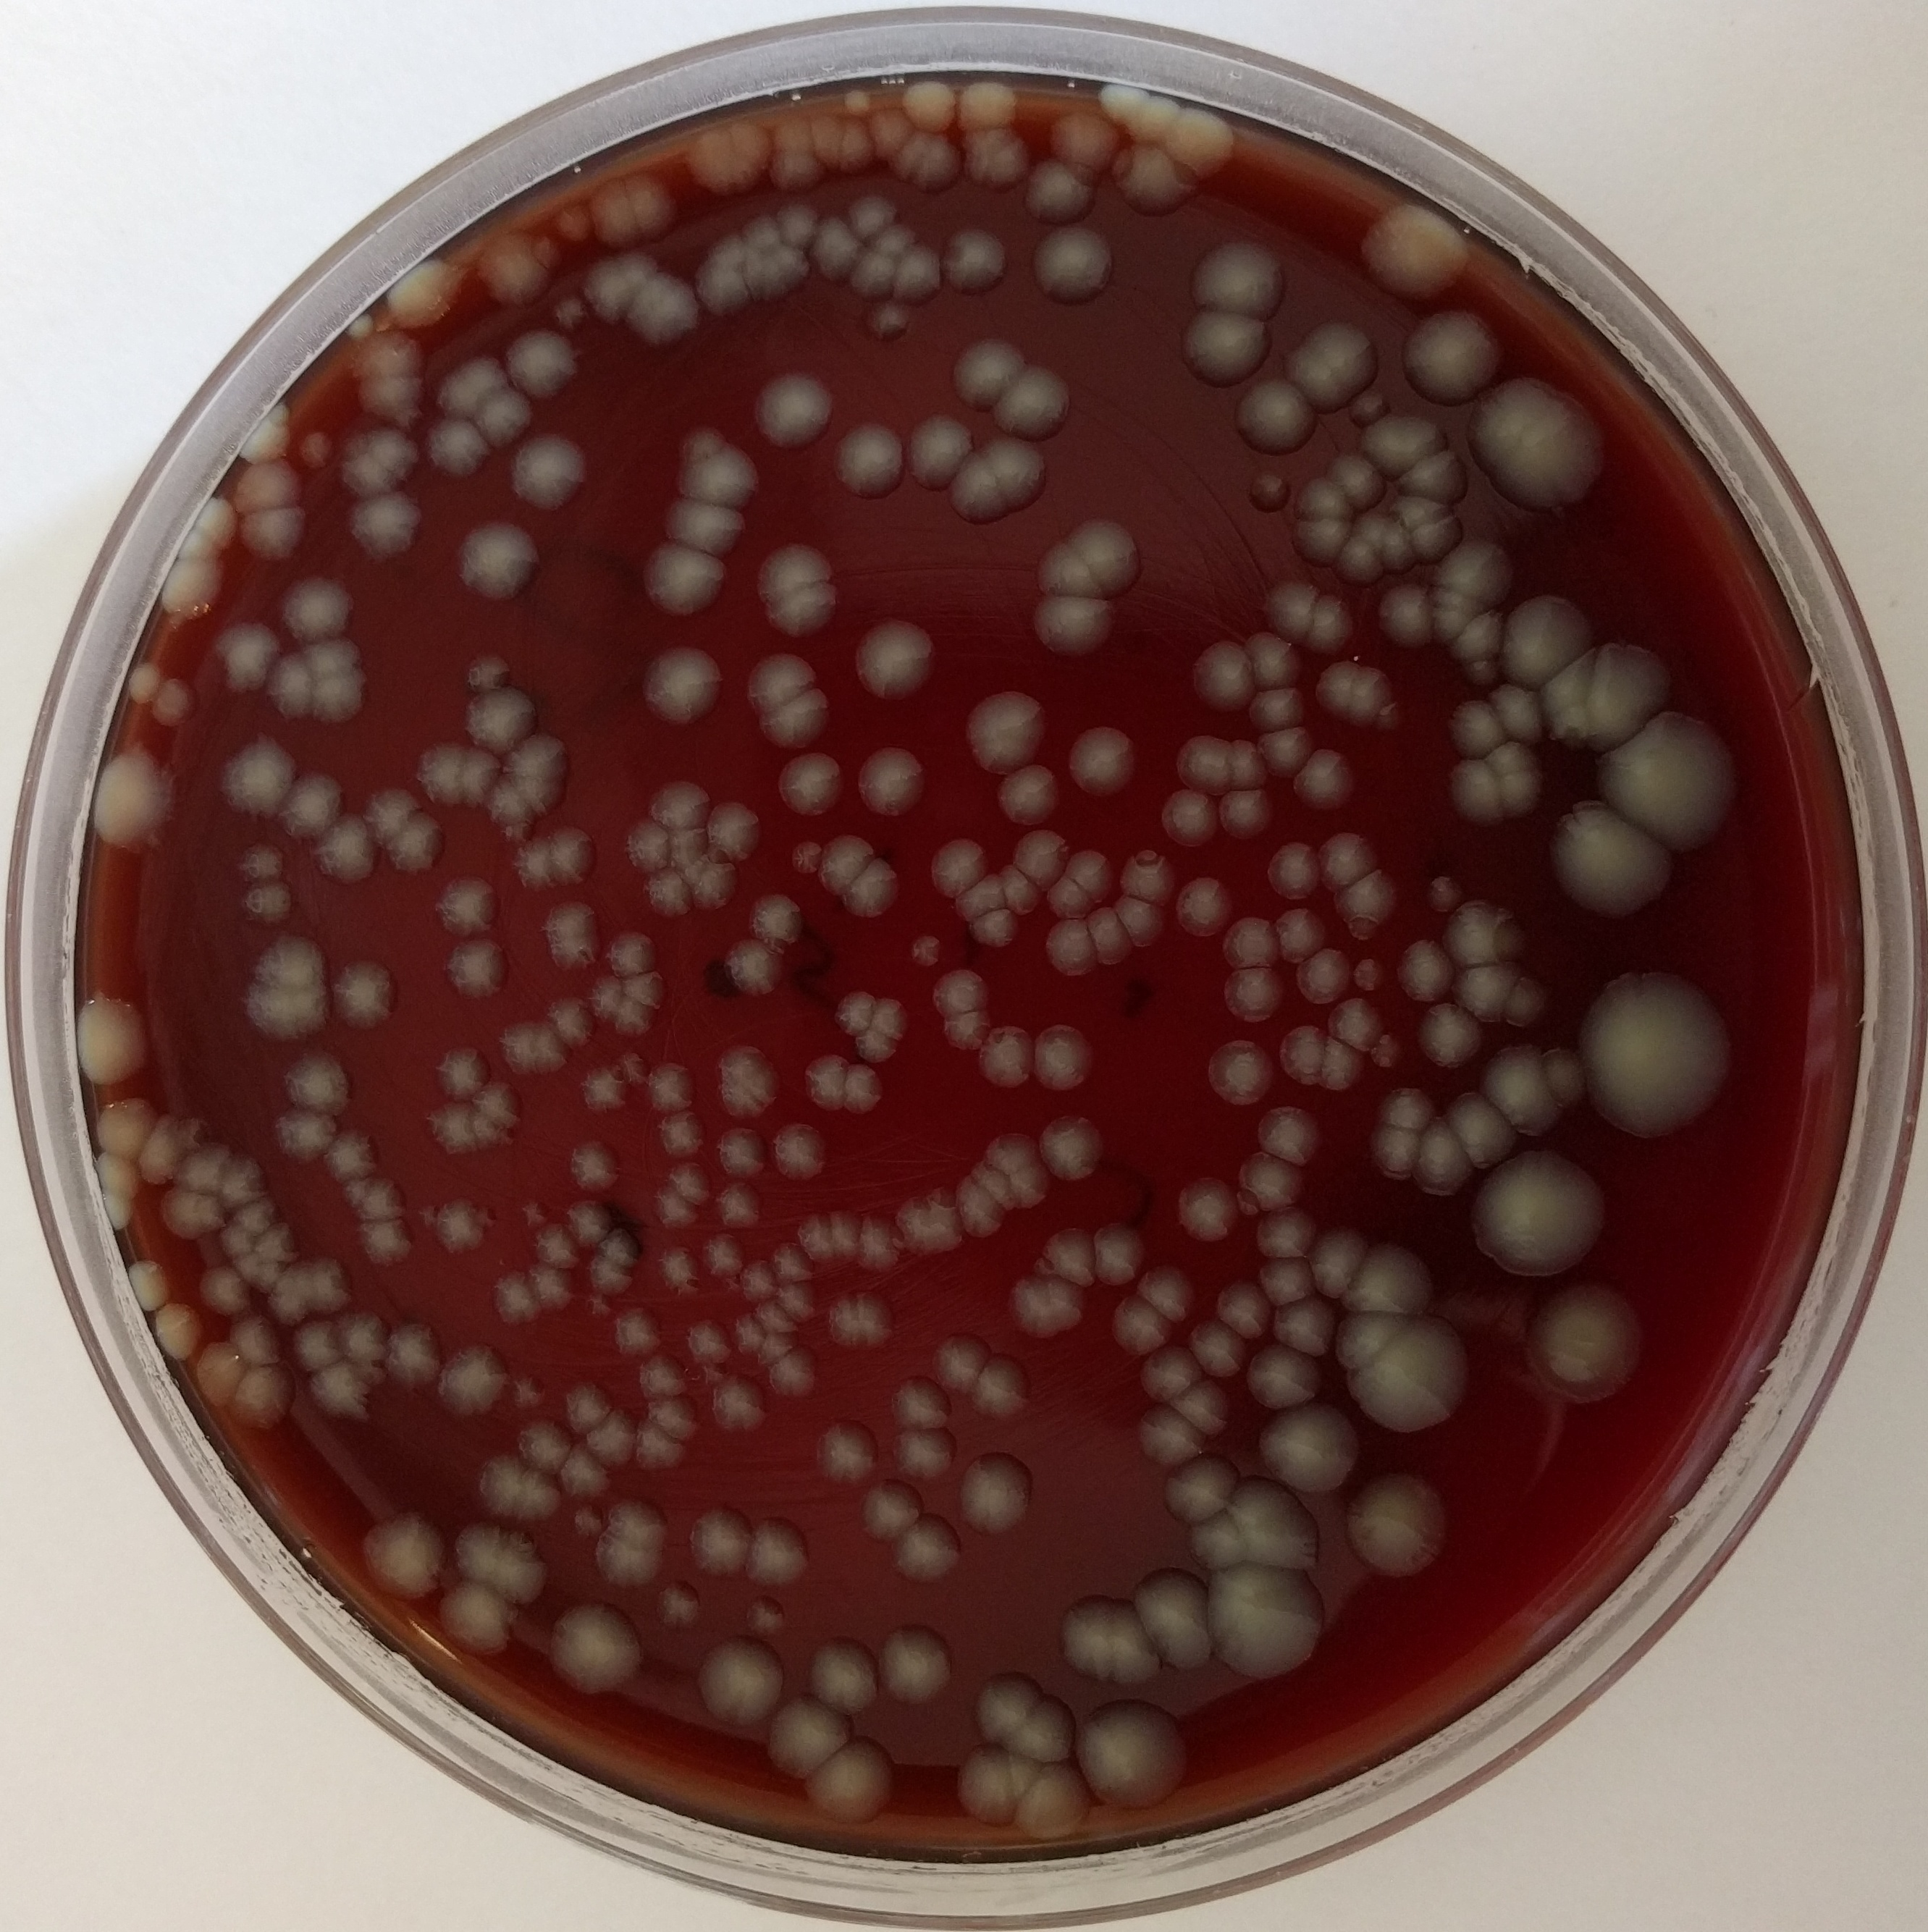sp05: (1571, 961, 1743, 1148), (1455, 366, 1612, 519), (1591, 699, 1743, 857), (1472, 1137, 1614, 1284), (1522, 1280, 1649, 1416), (1548, 791, 1677, 922), (1204, 1551, 1329, 1685), (1344, 1314, 1476, 1436), (1072, 1692, 1195, 1814), (1356, 194, 1481, 307), (1252, 1390, 1370, 1503), (1347, 1462, 1457, 1582), (1582, 634, 1679, 759), (546, 1593, 651, 1708), (1225, 1464, 1324, 1581), (1222, 940, 1354, 1026), (1397, 302, 1506, 406), (1494, 590, 1596, 694), (445, 516, 549, 613), (690, 1626, 787, 1731), (65, 987, 162, 1090), (1278, 320, 1388, 410), (1481, 1038, 1573, 1144), (800, 1734, 897, 1831), (1190, 230, 1291, 323), (88, 751, 175, 858), (1132, 1565, 1218, 1671), (1029, 221, 1126, 314), (768, 1688, 862, 1784), (1114, 132, 1208, 224), (855, 609, 945, 705), (872, 1614, 959, 1713), (1231, 373, 1322, 464), (950, 1446, 1038, 1542), (501, 433, 600, 517), (637, 540, 740, 622), (1183, 297, 1275, 387), (960, 687, 1054, 775), (358, 1510, 447, 1604), (238, 973, 344, 1049), (632, 646, 731, 728), (752, 366, 840, 456), (1437, 888, 1534, 970), (1344, 1238, 1434, 1324), (470, 230, 561, 314), (825, 420, 915, 505), (214, 731, 297, 823), (1059, 512, 1146, 599), (983, 362, 1081, 438), (803, 1626, 886, 1715), (1358, 406, 1448, 487), (471, 1450, 565, 1528), (620, 267, 706, 350), (438, 1575, 521, 1662), (577, 245, 667, 325), (344, 491, 438, 567), (946, 334, 1033, 415), (498, 325, 586, 404), (459, 678, 540, 763), (1033, 593, 1132, 662), (378, 260, 470, 334), (657, 489, 750, 562), (267, 765, 350, 846), (1245, 1333, 1328, 1415), (712, 1038, 789, 1125), (959, 1346, 1036, 1432), (434, 1333, 508, 1423), (973, 427, 1054, 509), (1437, 532, 1520, 611), (1185, 632, 1264, 715), (897, 413, 982, 491), (853, 742, 938, 819), (304, 809, 381, 892), (1006, 1270, 1091, 1346), (1003, 1685, 1082, 1764), (1063, 722, 1144, 800), (1441, 1088, 1517, 1171), (1324, 1300, 1411, 1372), (505, 729, 574, 819), (1199, 1035, 1278, 1113), (969, 1664, 1047, 1743), (1042, 108, 1125, 182), (892, 1185, 976, 1257), (953, 1736, 1019, 1830), (1414, 994, 1492, 1072), (685, 127, 766, 201), (740, 1510, 814, 1591), (1388, 449, 1471, 521), (275, 574, 367, 639), (1029, 537, 1116, 604), (749, 537, 837, 602), (226, 1355, 302, 1430), (1252, 1187, 1328, 1263), (378, 804, 452, 881), (1391, 927, 1464, 1007), (210, 623, 282, 703), (936, 226, 1017, 297), (1017, 1757, 1088, 1838), (1058, 1586, 1121, 1676), (667, 440, 768, 496), (692, 1498, 754, 1589), (378, 1309, 443, 1395), (491, 1528, 556, 1614), (775, 749, 851, 823), (330, 952, 404, 1028), (888, 1510, 962, 1586), (281, 1044, 358, 1116), (1024, 154, 1103, 224), (1028, 1021, 1102, 1095), (1036, 1114, 1111, 1189), (90, 1095, 166, 1167), (849, 1473, 925, 1545), (1132, 1335, 1208, 1407), (1333, 869, 1404, 947), (429, 869, 507, 940), (590, 1528, 667, 1598), (620, 166, 687, 247), (814, 1409, 881, 1491), (930, 1319, 996, 1402), (938, 449, 1010, 523), (1165, 101, 1236, 177), (1109, 1595, 1167, 1687), (1409, 1113, 1471, 1199), (740, 650, 819, 717), (249, 931, 330, 996), (964, 122, 1035, 196), (1446, 952, 1520, 1023), (1171, 1174, 1241, 1249), (157, 551, 231, 622), (1252, 1100, 1328, 1169), (1374, 579, 1441, 657), (757, 687, 835, 754), (436, 357, 516, 422), (237, 503, 316, 567), (1132, 1400, 1211, 1464), (1314, 823, 1384, 894), (304, 1353, 376, 1422), (1183, 1505, 1250, 1579), (990, 761, 1066, 826), (508, 1407, 572, 1485), (1107, 1294, 1176, 1365), (1190, 1314, 1255, 1388), (351, 366, 427, 429), (1423, 577, 1485, 655), (1040, 1219, 1100, 1298), (1167, 729, 1236, 798), (892, 240, 959, 311), (1261, 579, 1328, 650), (925, 832, 992, 902), (141, 1294, 208, 1365), (263, 1257, 330, 1328), (1211, 1273, 1278, 1344), (623, 816, 704, 874), (1365, 1120, 1437, 1185), (235, 457, 307, 523), (805, 210, 869, 284), (1287, 743, 1356, 811), (1215, 908, 1285, 973), (743, 888, 814, 954), (440, 931, 510, 996), (766, 1116, 832, 1187), (1158, 1475, 1229, 1540), (1284, 507, 1358, 569), (1487, 676, 1548, 751), (1236, 1148, 1310, 1210), (494, 1017, 569, 1079), (1006, 825, 1073, 892), (1174, 876, 1243, 941), (837, 853, 902, 922), (828, 1286, 893, 1355), (814, 825, 877, 895), (761, 583, 840, 639), (424, 415, 494, 479), (295, 630, 374, 687), (554, 1434, 618, 1505), (1307, 1226, 1368, 1298), (311, 1125, 385, 1185), (1137, 1261, 1197, 1335), (1446, 751, 1504, 826), (1091, 1210, 1148, 1287), (584, 180, 650, 247), (1241, 625, 1308, 691), (1116, 842, 1181, 909), (270, 1102, 339, 1166), (427, 1035, 491, 1104), (710, 1365, 772, 1436), (1246, 675, 1319, 735), (893, 1422, 966, 1482), (648, 1572, 708, 1644), (154, 1176, 228, 1234), (1264, 837, 1329, 902), (475, 385, 540, 450), (1160, 784, 1227, 848), (888, 1370, 952, 1438), (607, 1489, 669, 1558), (1176, 1374, 1236, 1445), (1164, 1445, 1236, 1503), (355, 328, 429, 385), (411, 735, 466, 811), (544, 823, 607, 888), (210, 1148, 277, 1210), (1273, 1291, 1335, 1358), (1322, 450, 1391, 510), (505, 826, 565, 895), (450, 1517, 508, 1588), (117, 1249, 180, 1312), (1254, 1249, 1317, 1312), (1444, 694, 1506, 759), (1216, 777, 1278, 842), (351, 1211, 417, 1273), (895, 76, 962, 136), (650, 1236, 710, 1303), (1307, 653, 1365, 722), (189, 1337, 245, 1407), (265, 652, 320, 724), (1322, 989, 1384, 1053), (284, 1310, 346, 1374), (641, 1385, 704, 1446), (309, 671, 374, 731), (487, 1266, 546, 1333), (1081, 902, 1137, 971), (235, 872, 304, 929), (644, 775, 715, 830), (420, 1095, 475, 1166), (1268, 904, 1329, 966), (703, 798, 764, 860), (959, 74, 1019, 138), (689, 253, 749, 316), (724, 934, 784, 998), (560, 1374, 620, 1438), (1252, 719, 1310, 784), (950, 1173, 1008, 1238), (1119, 88, 1186, 145), (978, 1021, 1035, 1088), (431, 1189, 487, 1256), (132, 1120, 187, 1189), (583, 1402, 637, 1471), (450, 735, 500, 811), (567, 1136, 629, 1196), (226, 1310, 290, 1369), (609, 1298, 667, 1362), (362, 781, 418, 846), (1536, 1044, 1591, 1111), (1377, 1083, 1444, 1137), (1278, 1021, 1333, 1088), (337, 450, 406, 503), (923, 962, 994, 1014), (1446, 604, 1506, 664), (641, 1058, 704, 1114), (632, 1415, 689, 1478), (519, 1256, 584, 1310), (334, 1307, 388, 1372), (682, 1307, 734, 1374), (936, 1005, 996, 1063), (1111, 890, 1171, 948), (844, 242, 906, 298), (1347, 659, 1397, 729), (1045, 915, 1102, 977), (862, 1206, 911, 1277), (1494, 761, 1548, 825), (1476, 729, 1540, 784), (1499, 970, 1552, 1035), (768, 1340, 821, 1406), (802, 1045, 849, 1118), (950, 864, 1008, 922), (1303, 590, 1359, 650), (147, 669, 203, 729), (542, 996, 604, 1051), (365, 420, 427, 475), (659, 1100, 713, 1162), (770, 141, 835, 192), (1409, 509, 1465, 567), (576, 1061, 632, 1120), (1292, 473, 1356, 525), (1312, 1037, 1368, 1093), (579, 968, 636, 1024), (1089, 71, 1148, 125), (713, 1125, 768, 1183), (770, 201, 832, 253), (1335, 526, 1384, 590), (484, 774, 533, 837), (846, 185, 902, 240), (189, 496, 245, 551), (662, 1153, 717, 1210), (350, 1174, 411, 1224), (602, 927, 659, 980), (88, 1144, 145, 1197), (194, 1261, 251, 1314), (475, 1077, 531, 1130), (742, 253, 793, 311), (772, 240, 823, 298), (309, 1252, 358, 1312), (768, 1234, 817, 1294), (1384, 489, 1451, 533), (697, 1226, 749, 1282), (918, 132, 966, 192), (115, 657, 162, 717), (840, 1056, 886, 1118), (537, 899, 600, 943), (235, 411, 288, 464), (717, 1176, 770, 1229), (863, 104, 915, 159), (726, 118, 777, 173), (969, 1157, 1024, 1208), (1241, 466, 1298, 516), (830, 985, 879, 1042), (231, 839, 290, 887), (734, 1254, 782, 1312), (966, 906, 1026, 952), (1001, 1740, 1047, 1800), (825, 1201, 865, 1268), (641, 864, 692, 917), (177, 1141, 228, 1194), (526, 1217, 579, 1268), (689, 857, 743, 906), (1006, 1158, 1063, 1206), (459, 648, 516, 696), (1420, 865, 1471, 917), (1065, 844, 1114, 897), (992, 858, 1042, 911), (561, 1192, 611, 1245), (632, 1349, 685, 1399), (1224, 735, 1271, 789), (579, 1249, 634, 1296), (742, 1589, 789, 1644), (858, 223, 922, 263), (890, 129, 934, 187), (764, 113, 817, 161), (595, 1219, 643, 1272), (646, 1185, 699, 1233), (249, 1215, 304, 1261), (980, 1127, 1036, 1171), (860, 298, 918, 341), (734, 212, 793, 254), (503, 1365, 551, 1416), (837, 120, 881, 175), (1377, 521, 1421, 576), (807, 111, 847, 170), (544, 932, 607, 970), (1047, 872, 1095, 920), (233, 1190, 281, 1238), (1344, 385, 1393, 431), (293, 424, 343, 470), (1548, 696, 1587, 754), (775, 1275, 819, 1326), (1457, 646, 1506, 691), (754, 1319, 796, 1370), (463, 1098, 503, 1151), (704, 237, 759, 275), (553, 201, 599, 247), (1347, 952, 1395, 996), (99, 1183, 143, 1231), (798, 1211, 839, 1263), (169, 526, 224, 563), (1363, 1028, 1407, 1074), (217, 1219, 263, 1263), (870, 992, 913, 1040), (609, 996, 659, 1037), (620, 970, 671, 1008), (676, 420, 727, 459), (780, 835, 825, 876), (733, 1310, 768, 1360), (1372, 696, 1414, 736), (756, 1293, 796, 1335), (547, 288, 591, 325), (855, 1026, 900, 1061), (177, 1116, 215, 1153), (574, 1498, 606, 1542), (611, 1047, 650, 1081), (343, 309, 383, 341), (528, 231, 567, 263), (909, 931, 945, 964), (339, 427, 374, 461), (517, 1194, 554, 1226), (577, 1287, 616, 1317), (337, 1173, 367, 1210), (1231, 1181, 1261, 1213), (263, 401, 293, 429), (470, 1199, 498, 1229), (417, 1197, 441, 1229), (840, 87, 867, 111)
